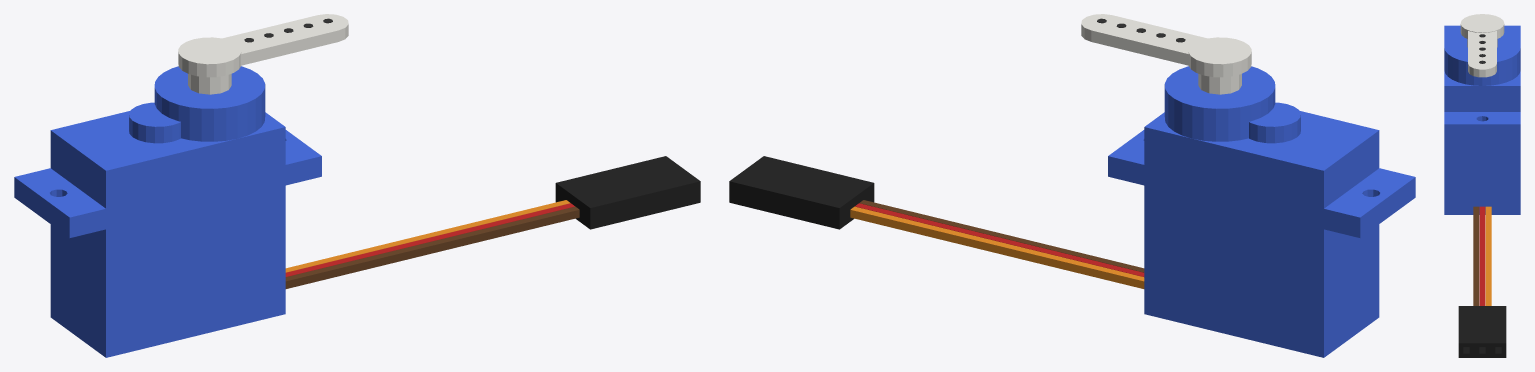
The model's file is servo.glb.
The picture shows the model from 3 angles, left to right: view 1: azimuth 30°, elevation 25°; view 2: azimuth 150°, elevation 25°; view 3: azimuth 270°, elevation 25°; orthographic projection. The views are drawn at different scales.
Visible parts, largest first — view 1: servo_body, servo_plug, servo_tabs, servo_horn, servo_wire_gnd, servo_wire_vcc, servo_wire_signal, servo_shaft; view 2: servo_body, servo_plug, servo_tabs, servo_horn, servo_wire_signal, servo_wire_vcc, servo_wire_gnd, servo_shaft; view 3: servo_body, servo_plug, servo_tabs, servo_horn, servo_wire_gnd, servo_wire_signal, servo_wire_vcc, servo_plug_holes, servo_horn_holes.
Boxes of the visible parts, box(x1,y1,x2,y2) form: servo_body: box(50, 66, 285, 357); servo_plug: box(555, 156, 700, 229); servo_tabs: box(14, 130, 321, 237); servo_horn: box(178, 14, 348, 77); servo_wire_gnd: box(285, 206, 579, 288); servo_wire_vcc: box(285, 203, 574, 276); servo_wire_signal: box(285, 200, 570, 272); servo_shaft: box(188, 74, 231, 94); servo_body: box(1144, 66, 1379, 357); servo_plug: box(729, 156, 874, 229); servo_tabs: box(1108, 130, 1415, 237); servo_horn: box(1081, 14, 1251, 77); servo_wire_signal: box(850, 206, 1144, 288); servo_wire_vcc: box(855, 203, 1144, 276); servo_wire_gnd: box(859, 200, 1144, 272); servo_shaft: box(1198, 74, 1241, 94); servo_body: box(1444, 25, 1520, 214); servo_plug: box(1458, 306, 1506, 357); servo_tabs: box(1444, 112, 1520, 138); servo_horn: box(1460, 14, 1504, 77); servo_wire_gnd: box(1473, 206, 1479, 305); servo_wire_signal: box(1485, 206, 1491, 305); servo_wire_vcc: box(1479, 206, 1485, 305); servo_plug_holes: box(1463, 347, 1501, 353); servo_horn_holes: box(1479, 34, 1485, 63).
Bounding box in the file's own units: 0.0814 × 0.0311 × 0.0122.
